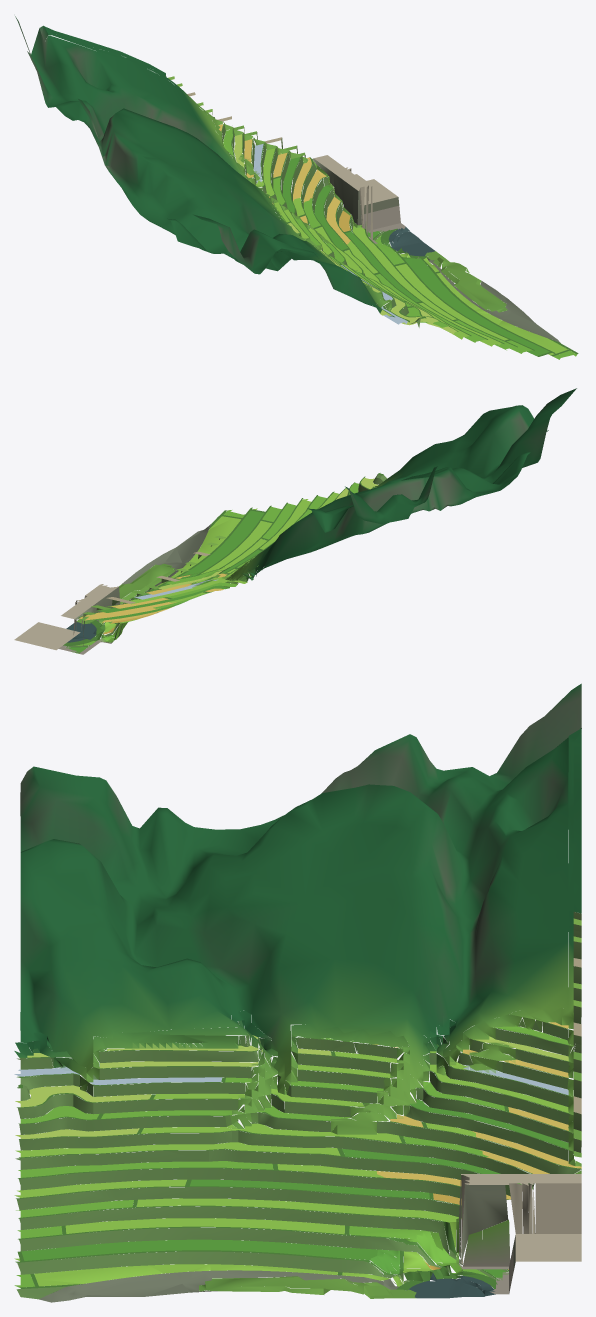
File: payo_land_x0_y0_lod2.glb
The picture shows the model from 3 angles, top to bottom: view 1: azimuth 30°, elevation 25°; view 2: azimuth 150°, elevation 25°; view 3: azimuth 270°, elevation 25°; orthographic projection. The views are drawn at different scales.
Visible parts, largest first — view 1: payo_land_x0_y0; view 2: payo_land_x0_y0; view 3: payo_land_x0_y0.
Part boxes in pixels (<box>): payo_land_x0_y0: <box>15,16,578,359</box>; payo_land_x0_y0: <box>14,388,576,654</box>; payo_land_x0_y0: <box>14,683,581,1302</box>.
Bounding box in the file's own units: 255 × 192 × 258.
